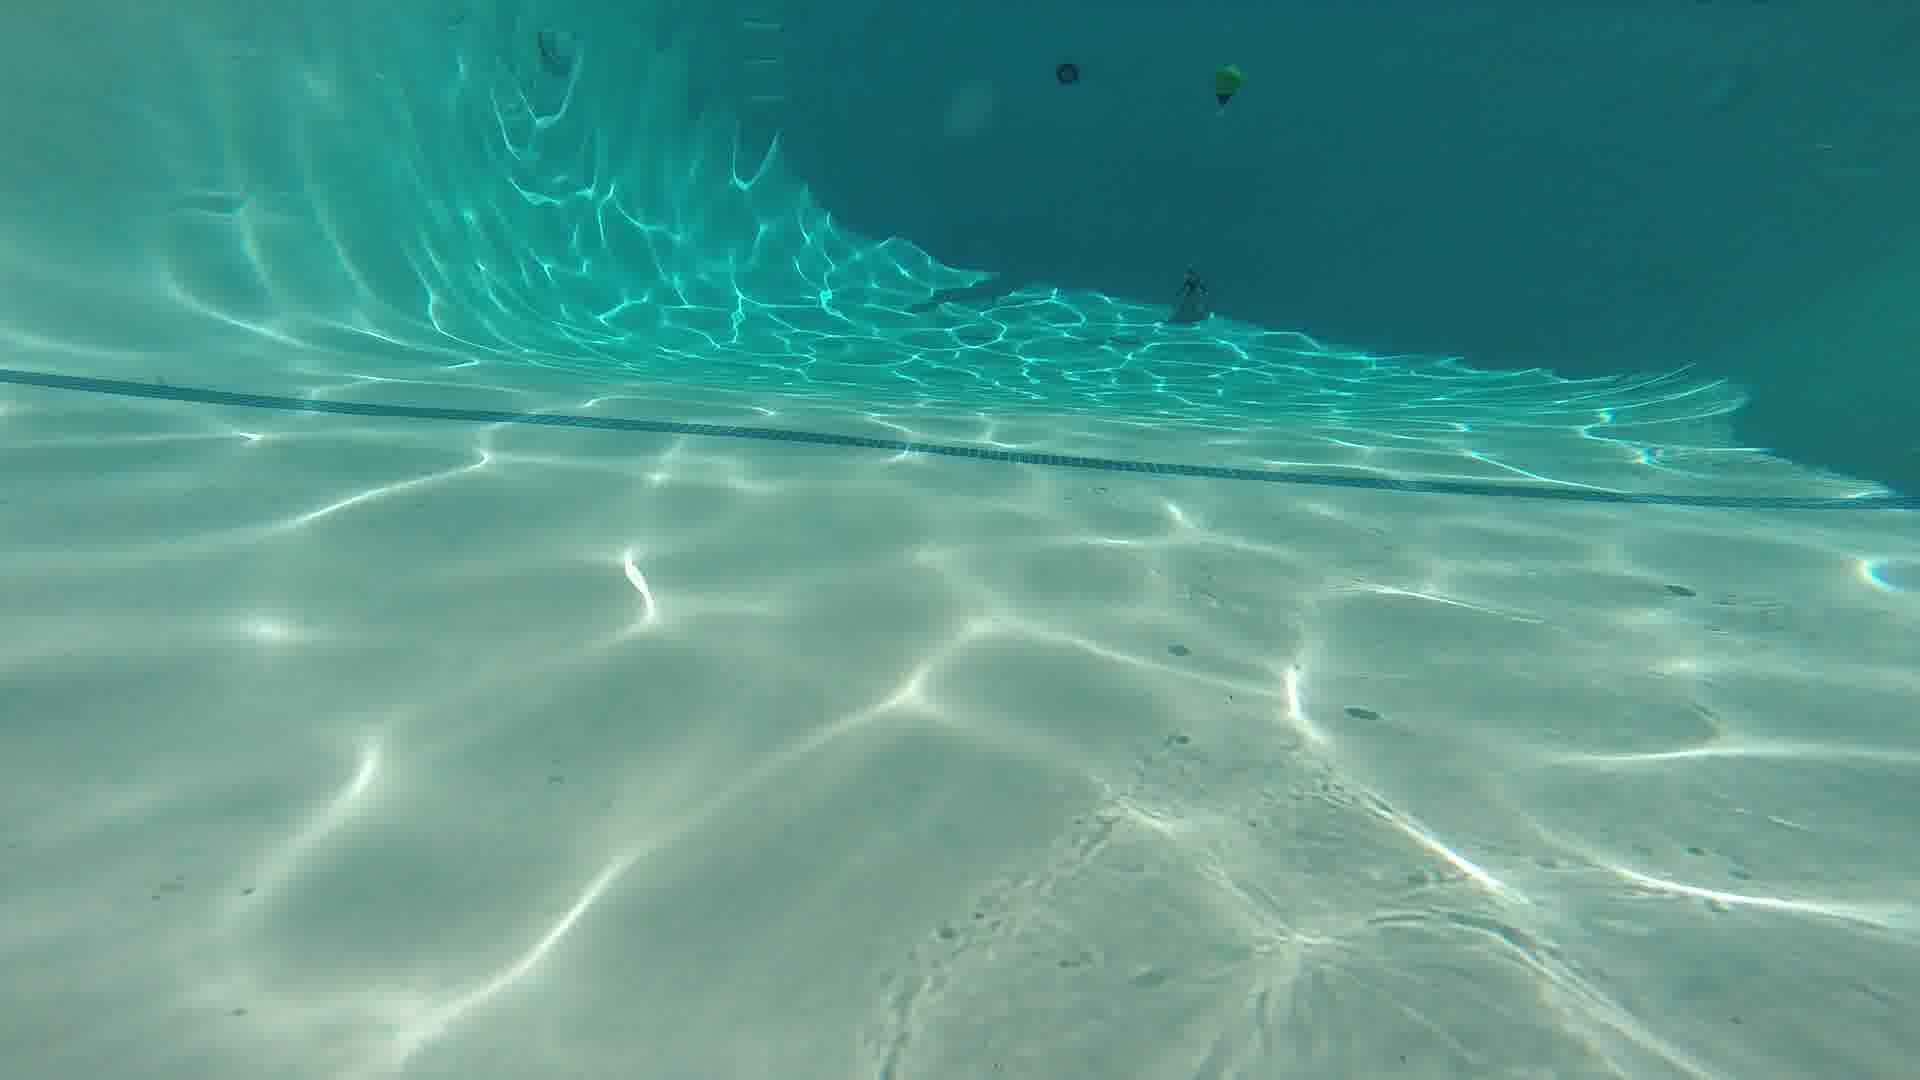yellow buoy: (1204, 49, 1249, 117)
